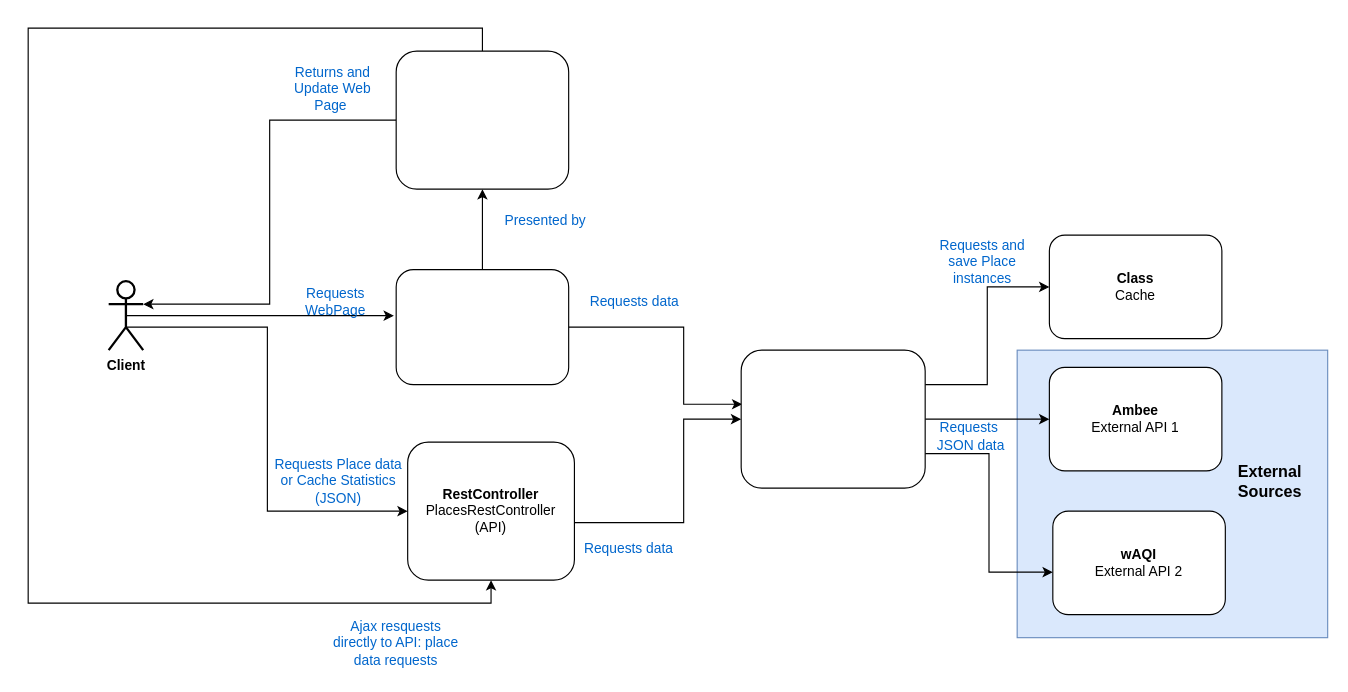
The diagram is 1348 pixels wide and 692 high, and some of its shapes have lost their labels. The box of each missing label's shape, as (x1, y1, x2, y2) in pixels:
Controller PagesController: (395, 269, 569, 385)
Presentation Thymeleaf, HTML, CSS, JS, AJAX, JQuery: (395, 50, 569, 189)
Service PlaceService: (740, 349, 925, 488)
